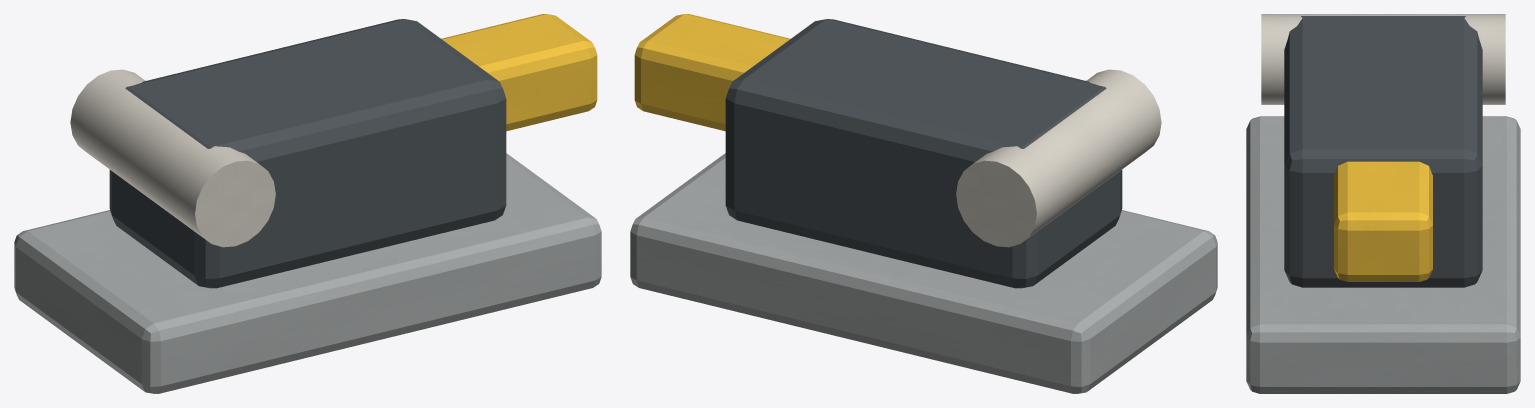
Rendered from fairing_release_latch.glb.
3 views of the same model, side by side, from view 1: azimuth 30°, elevation 25°; view 2: azimuth 150°, elevation 25°; view 3: azimuth 270°, elevation 25° (orthographic). The views are drawn at different scales.
Visible parts, largest first — view 1: ClampBody, Mount, HingePin, LatchTongue; view 2: ClampBody, Mount, HingePin, LatchTongue; view 3: Mount, ClampBody, LatchTongue, HingePin.
Part boxes in pixels (<box>): ClampBody: <box>109,19,506,288</box>; Mount: <box>14,153,601,393</box>; HingePin: <box>70,69,275,247</box>; LatchTongue: <box>441,14,597,131</box>; ClampBody: <box>725,19,1122,288</box>; Mount: <box>630,153,1217,393</box>; HingePin: <box>956,69,1161,247</box>; LatchTongue: <box>634,14,790,131</box>; Mount: <box>1246,116,1520,393</box>; ClampBody: <box>1284,16,1482,287</box>; LatchTongue: <box>1334,161,1432,281</box>; HingePin: <box>1261,14,1505,104</box>.
Bounding box in the file's own units: 0.37 × 0.15 × 0.18.
Materials: 4 (3 with a texture image).
